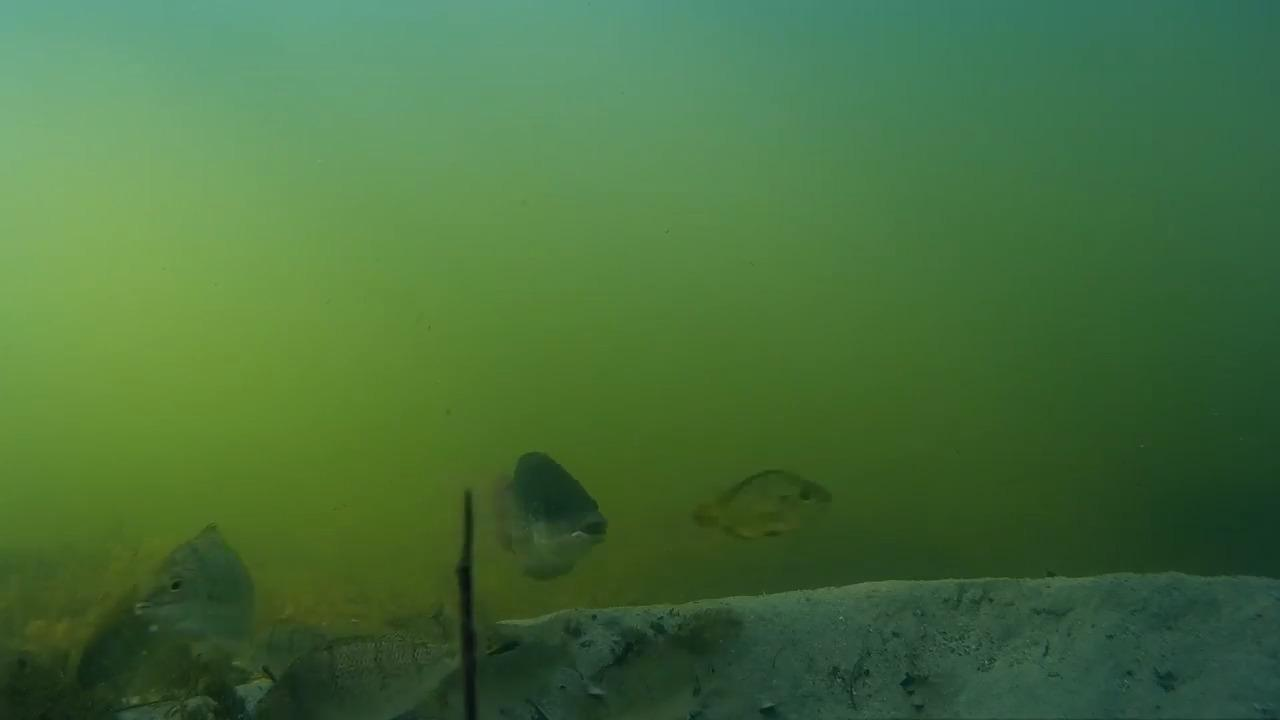Tilapia: (34, 520, 275, 720), (242, 618, 479, 720), (474, 448, 615, 600), (683, 470, 836, 546)
